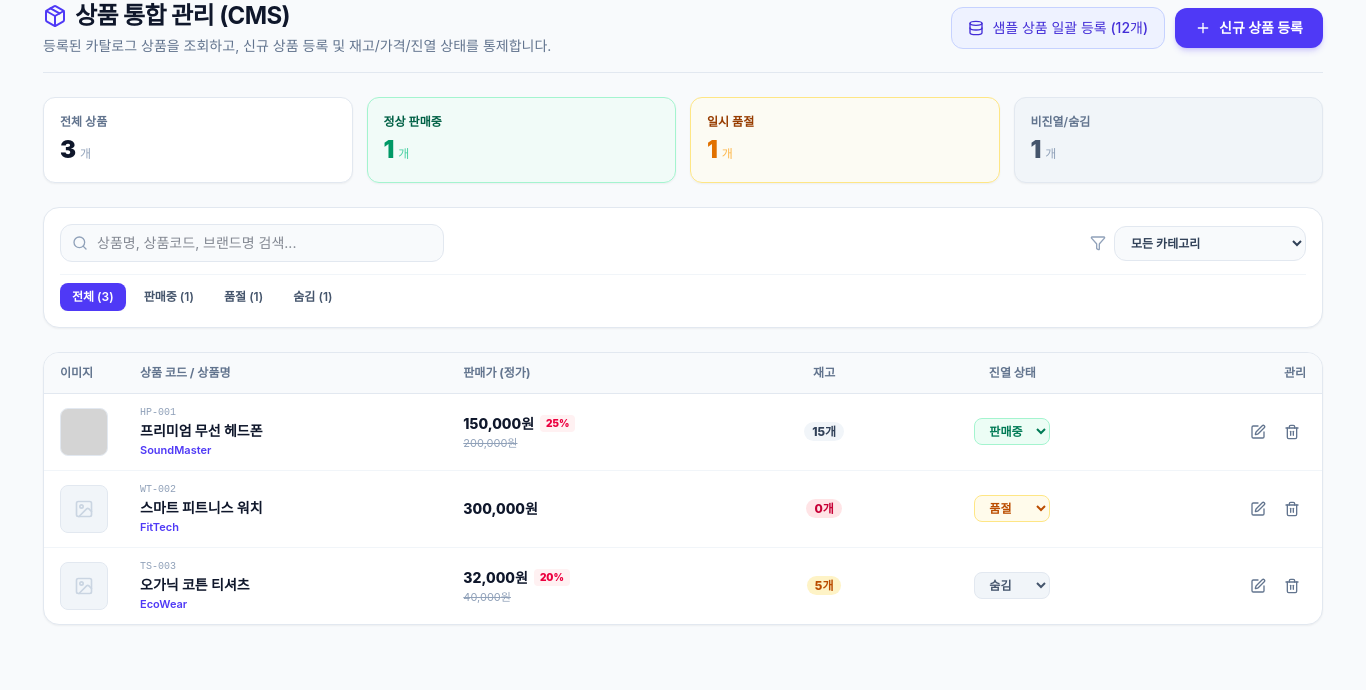
Test: AdminProductListViewer Component › 상품 수정 버튼을 누르면 해당 상품 정보가 포함된 수정 모달이 열린다
Click the button named "상품 프리미엄 무선 헤드폰 수정" at (1258, 432), box [1244, 418, 1272, 446]
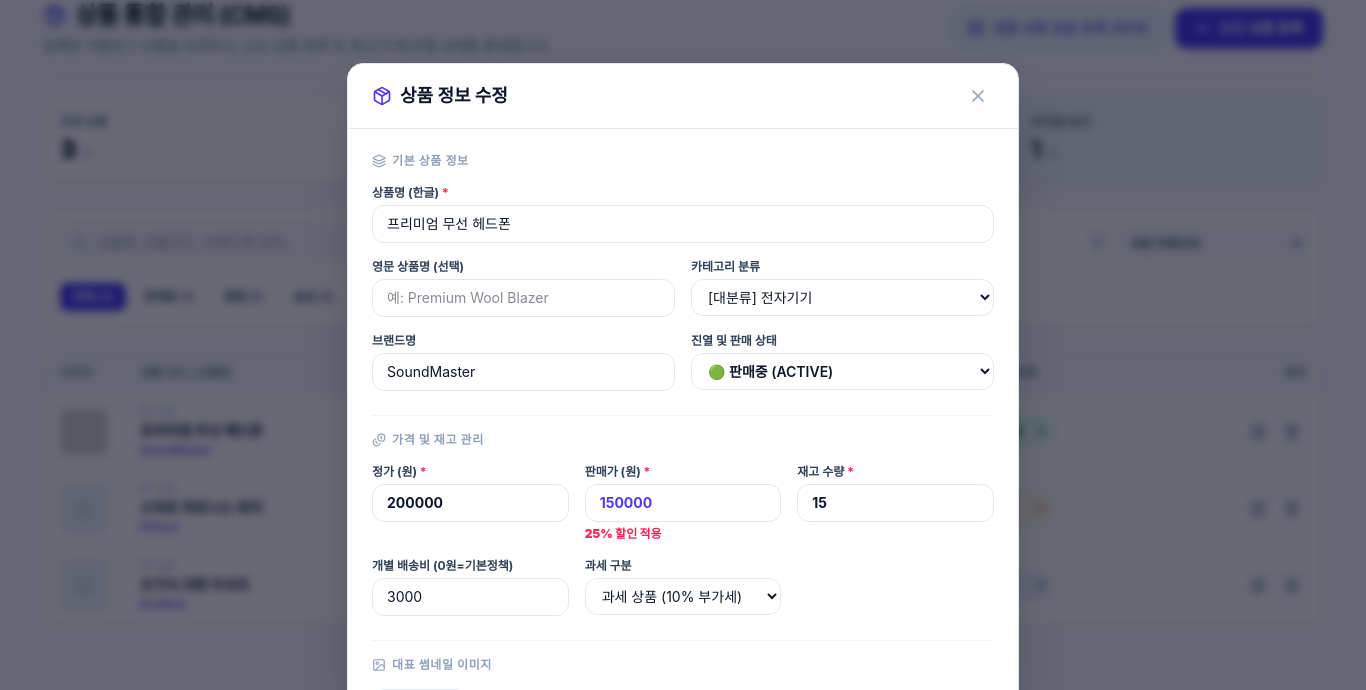
Expected: the heading "상품 정보 수정" is shown, [400, 82, 508, 110]
Expected: the field showing "프리미엄 무선 헤드폰" is shown, [372, 204, 994, 242]
